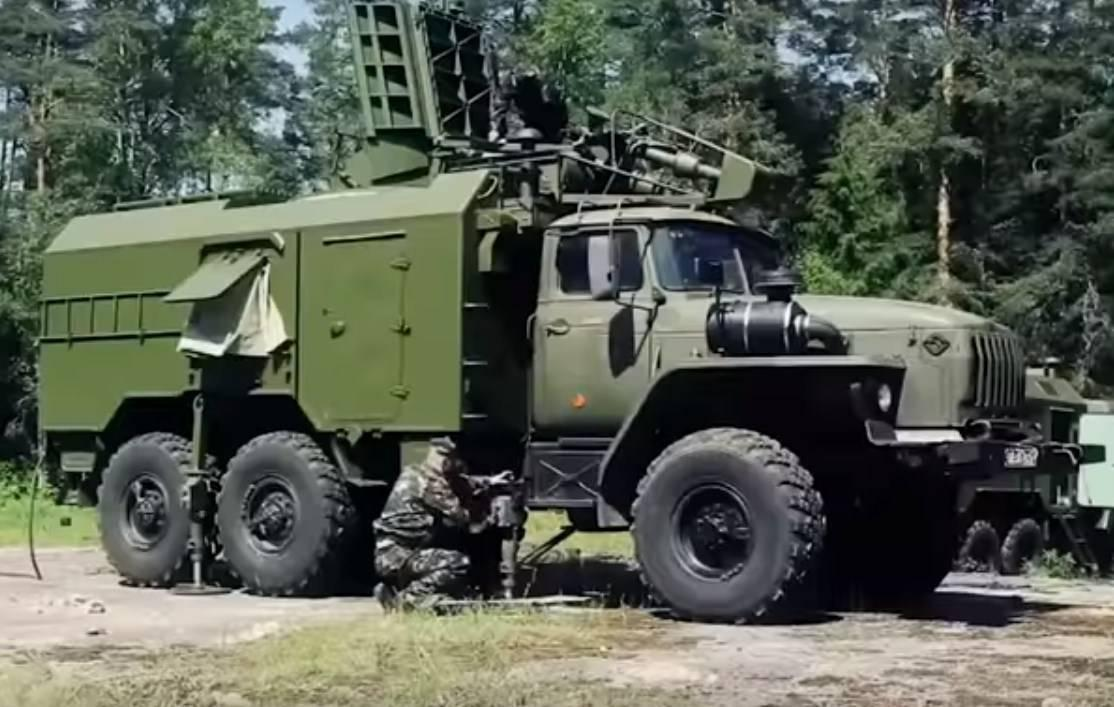truck: (37, 170, 1020, 627)
